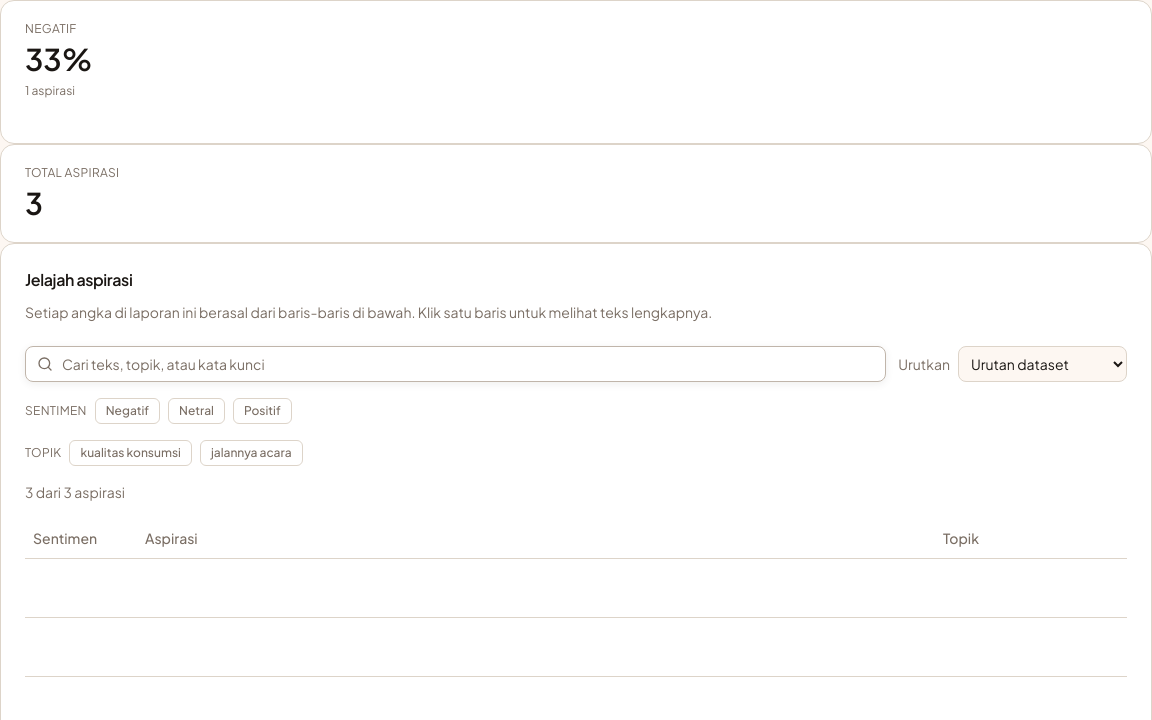
Test: evidence-first wiring › filters by topic from the explorer chips
Click the button "kualitas konsumsi": (131, 453) [70,440,192,466]
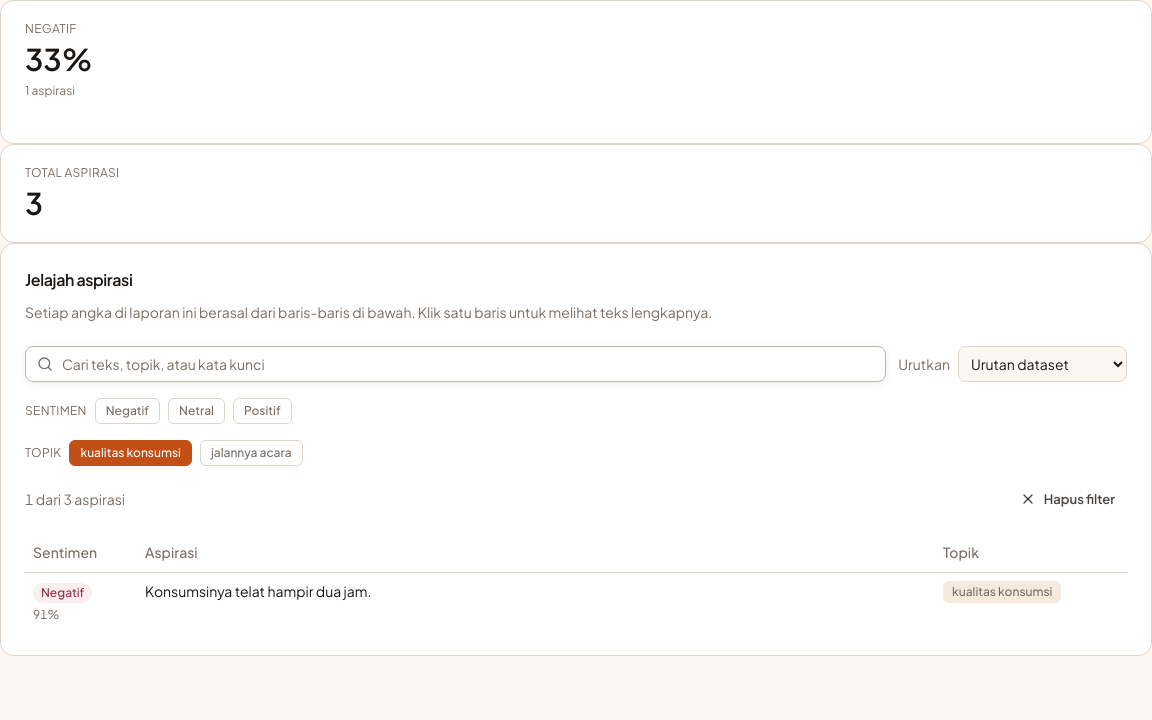
Check: the text "1 dari 3 aspirasi" is shown, box [25,489,125,509]
Check: the text "Konsumsinya telat hampir dua jam." is shown, box [145,582,372,600]
